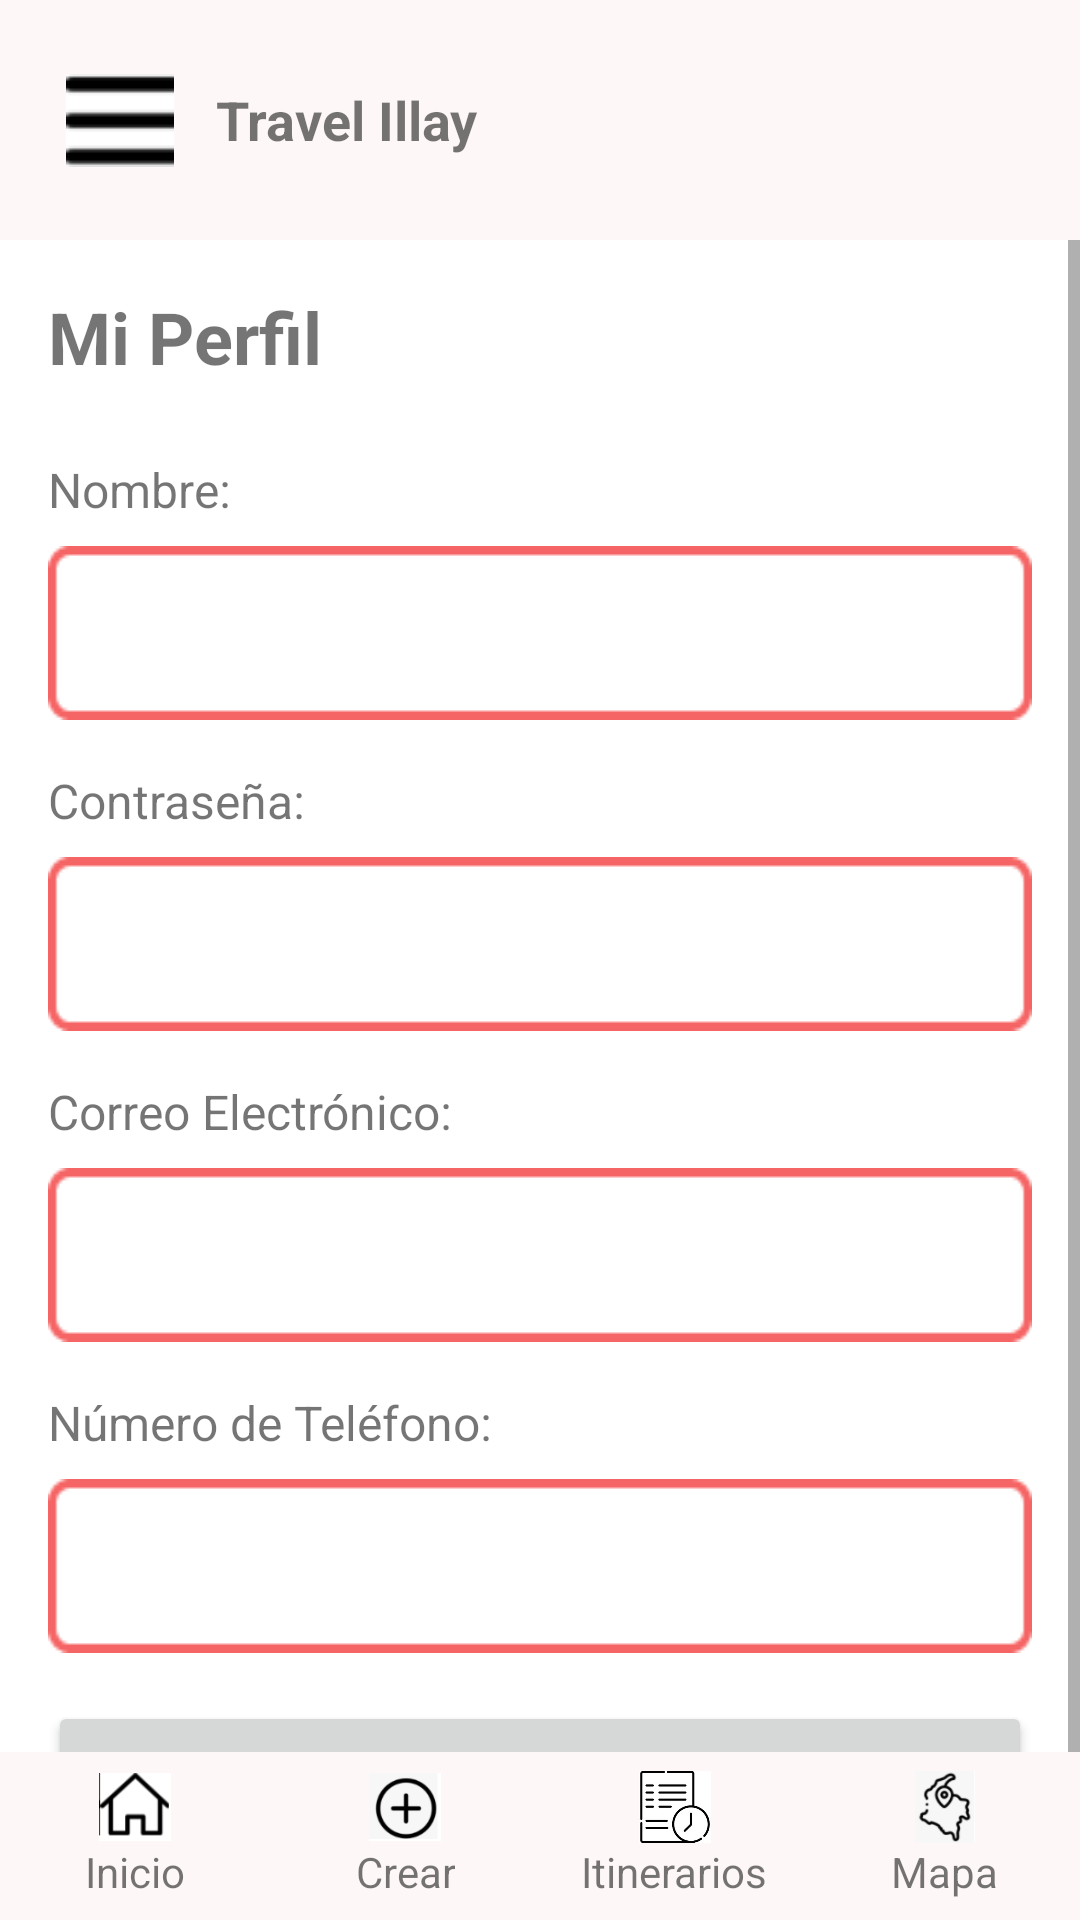

Icons on this 1080px×1920px Android screen, each with its box as (x1, y1, x2, y2):
Menú principal: (66, 76, 174, 167)
